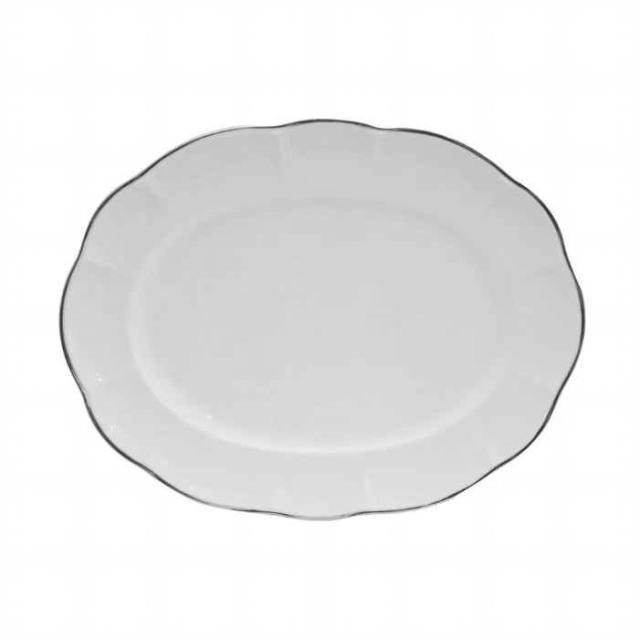plate: (40, 84, 604, 543)
